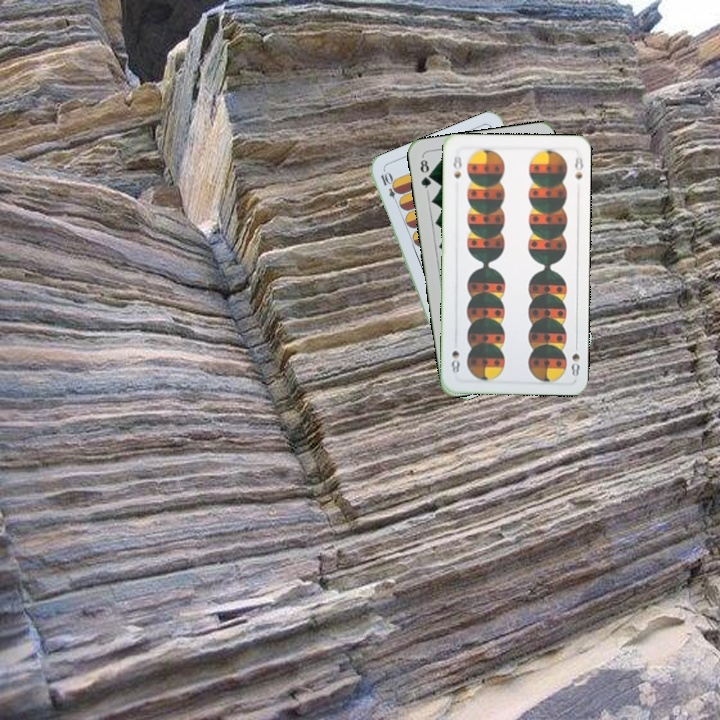E10: (376, 168, 402, 208)
G8: (416, 153, 434, 194)
S8: (567, 338, 582, 379), (449, 152, 464, 181)
